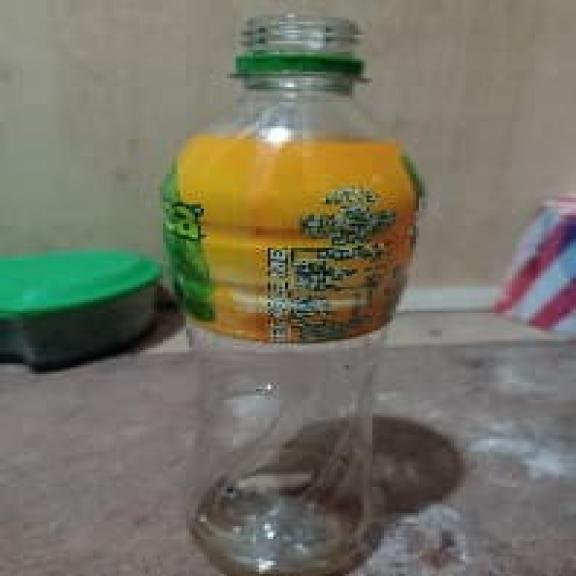Plastik: (163, 20, 420, 574)
